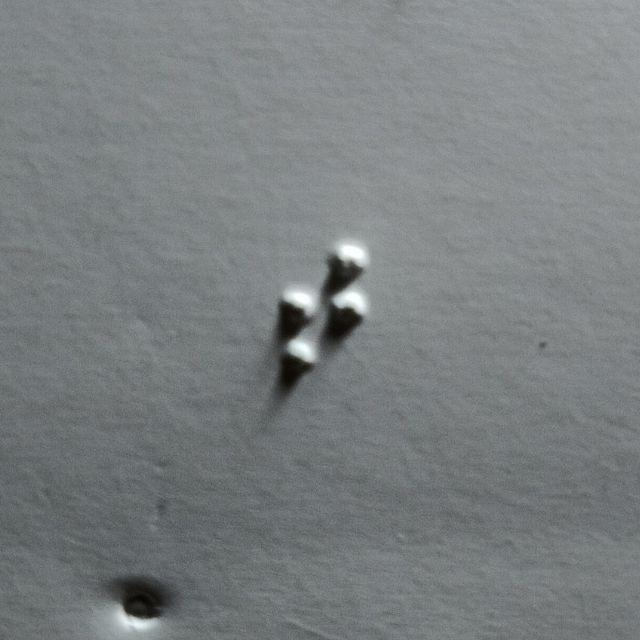t: (276, 239, 366, 380)
